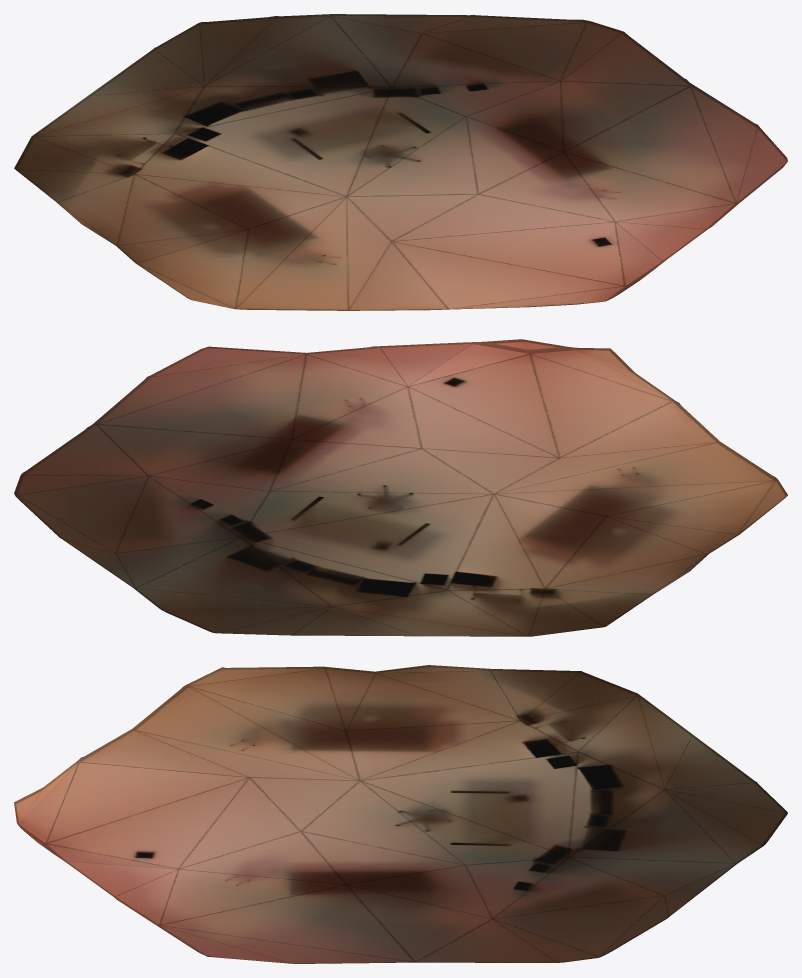
File: structure_floor.glb
3 renders of one model, top to bottom at view 1: azimuth 30°, elevation 25°; view 2: azimuth 150°, elevation 25°; view 3: azimuth 270°, elevation 25°, orthographic.
Parts seen in each view (by area): view 1: roomfloor; view 2: roomfloor; view 3: roomfloor.
Part boxes in pixels (x1=…): roomfloor: x1=14, y1=14, x2=787, y2=310; roomfloor: x1=14, y1=339, x2=787, y2=636; roomfloor: x1=14, y1=665, x2=787, y2=963.
Bounding box in the file's own units: 12.42 × 0.196 × 13.66.
Materials: 1 (1 with a texture image).
